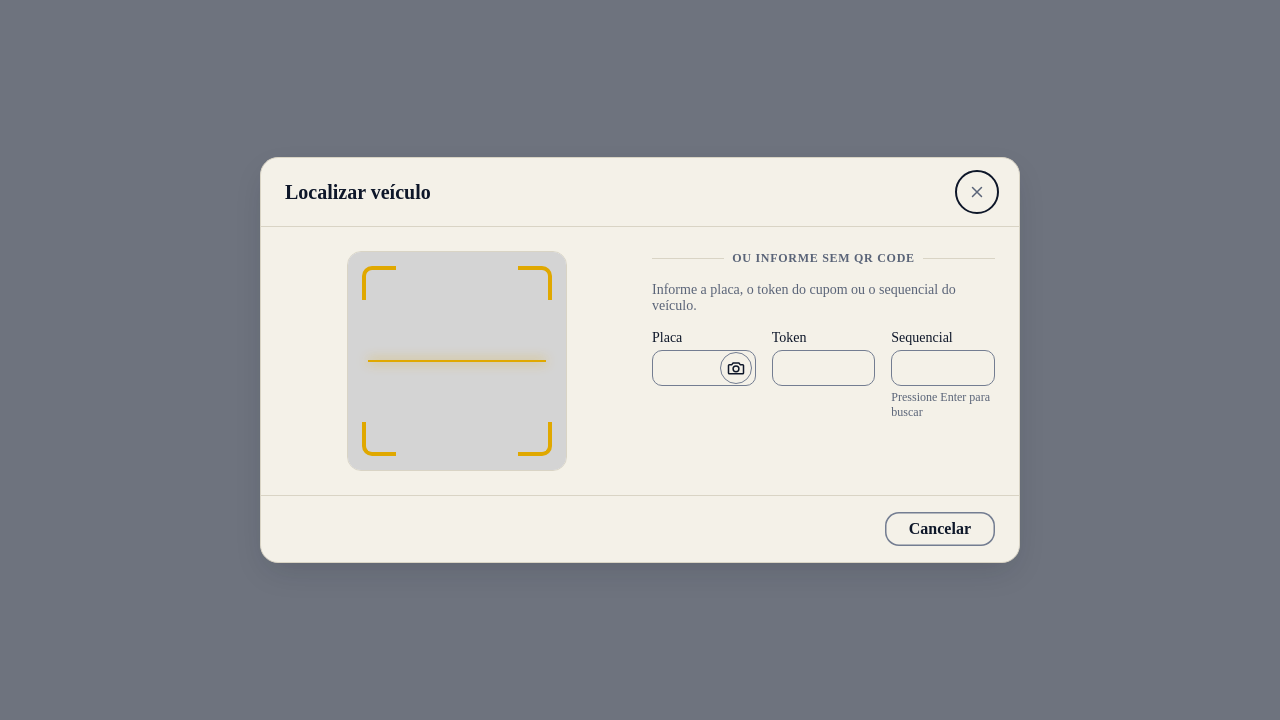
SaidaVeiculoModal: passagem para o pagamento › a busca por sequencial com Enter também leva à fase de pagamento
In the field labelled "Sequencial": (943, 368) [891,350,995,386], type "12"
Then press Enter
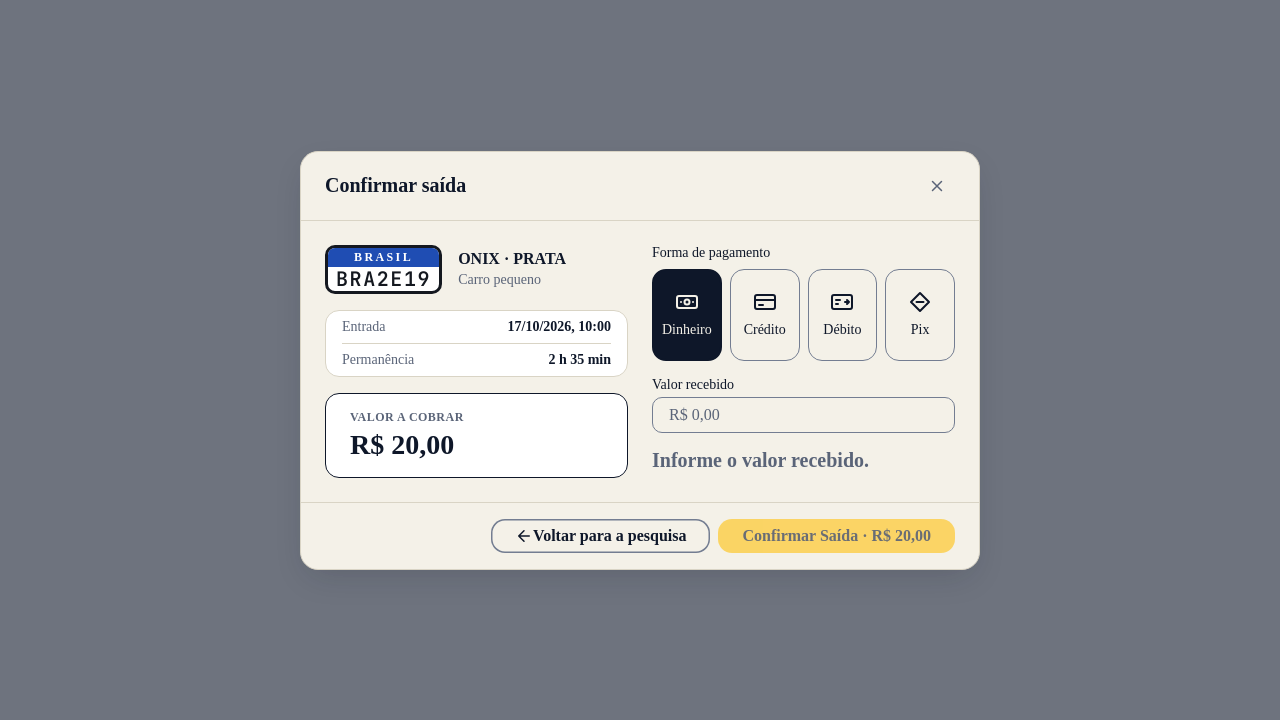
expect the text "ONIX · PRATA" is shown: met, box [458,250,566,268]
expect the heading "Confirmar saída" is shown: met, box [325,174,466,197]
